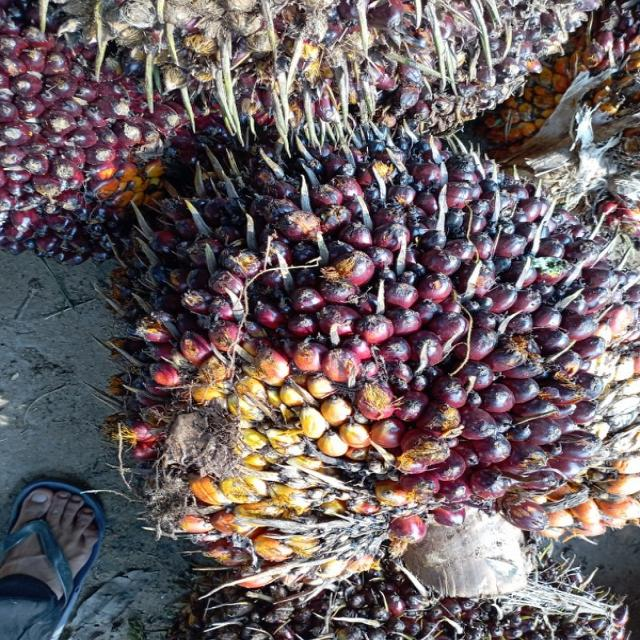fraksi 1: (125, 147, 640, 553)
